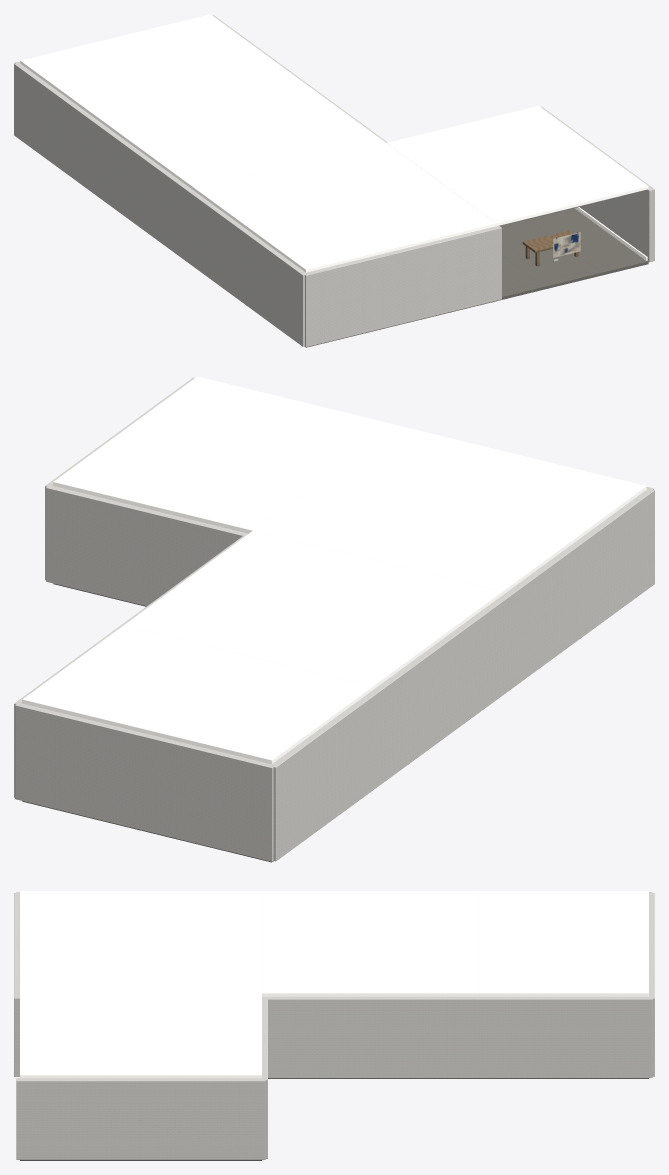
File: room.glb
3 views of the same model, one above another, from view 1: azimuth 30°, elevation 25°; view 2: azimuth 150°, elevation 25°; view 3: azimuth 270°, elevation 25° (orthographic). The views are drawn at different scales.
Parts seen in each view (by area): view 1: STATIC_CEILINGS, STATIC_WHITE, FLOOR_SIDE, STATIC_WOOD, ART_10; view 2: STATIC_CEILINGS, STATIC_WHITE; view 3: STATIC_CEILINGS, STATIC_WHITE.
Part boxes in pixels (<box>): STATIC_CEILINGS: <box>20,14,648,272</box>; STATIC_WHITE: <box>14,15,654,346</box>; FLOOR_SIDE: <box>496,208,648,301</box>; STATIC_WOOD: <box>522,230,581,266</box>; ART_10: <box>553,232,580,257</box>; STATIC_CEILINGS: <box>22,376,646,764</box>; STATIC_WHITE: <box>14,377,654,861</box>; STATIC_CEILINGS: <box>20,891,648,1078</box>; STATIC_WHITE: <box>14,892,654,1159</box>.
Bounding box in the file's own units: 18.5 × 3.92 × 26.5.
Materials: 22 (15 with a texture image).
